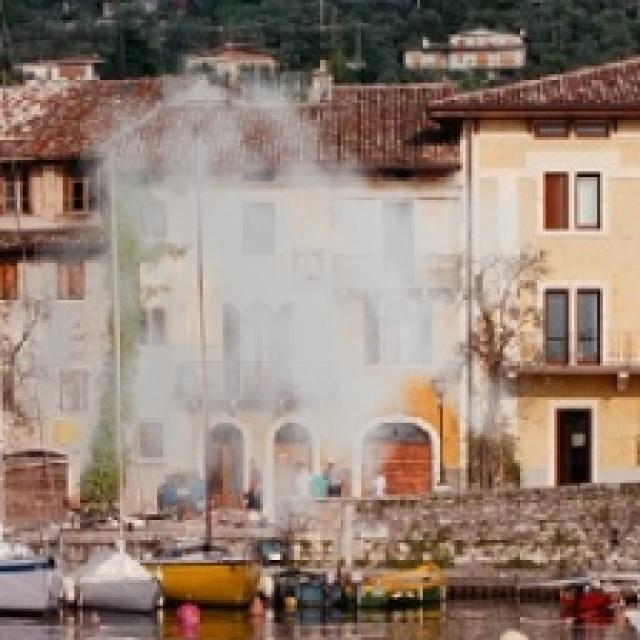Smoke: (6, 34, 543, 592)
